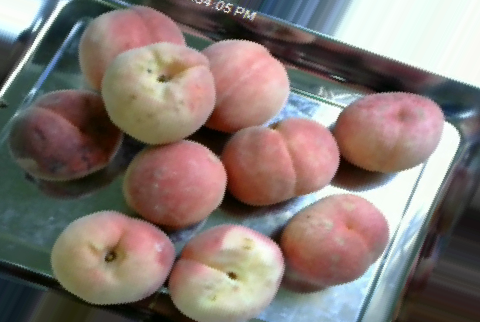Peach: (48, 210, 176, 305), (166, 222, 284, 320), (100, 44, 216, 143), (10, 88, 120, 182), (224, 117, 336, 205), (277, 195, 385, 285), (331, 91, 447, 171), (121, 139, 225, 228), (194, 39, 289, 132), (79, 8, 184, 85)
